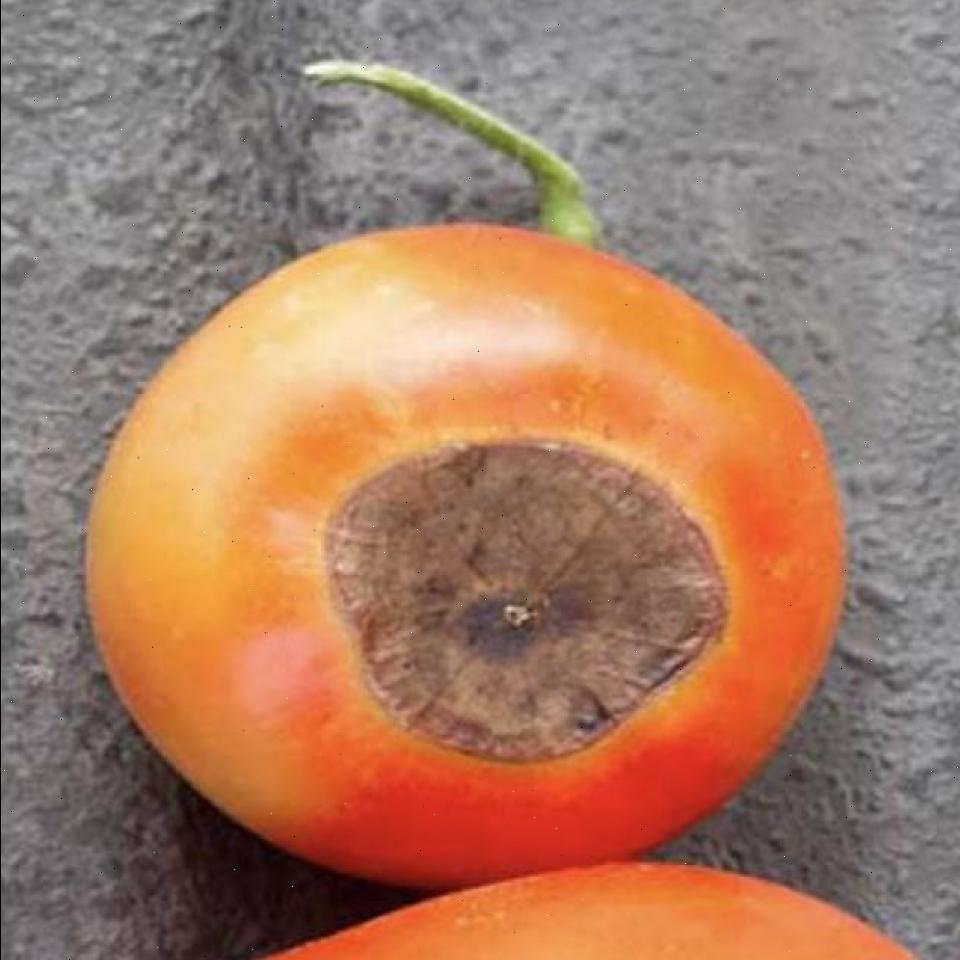Blossom_end_rot: (314, 416, 724, 776)
